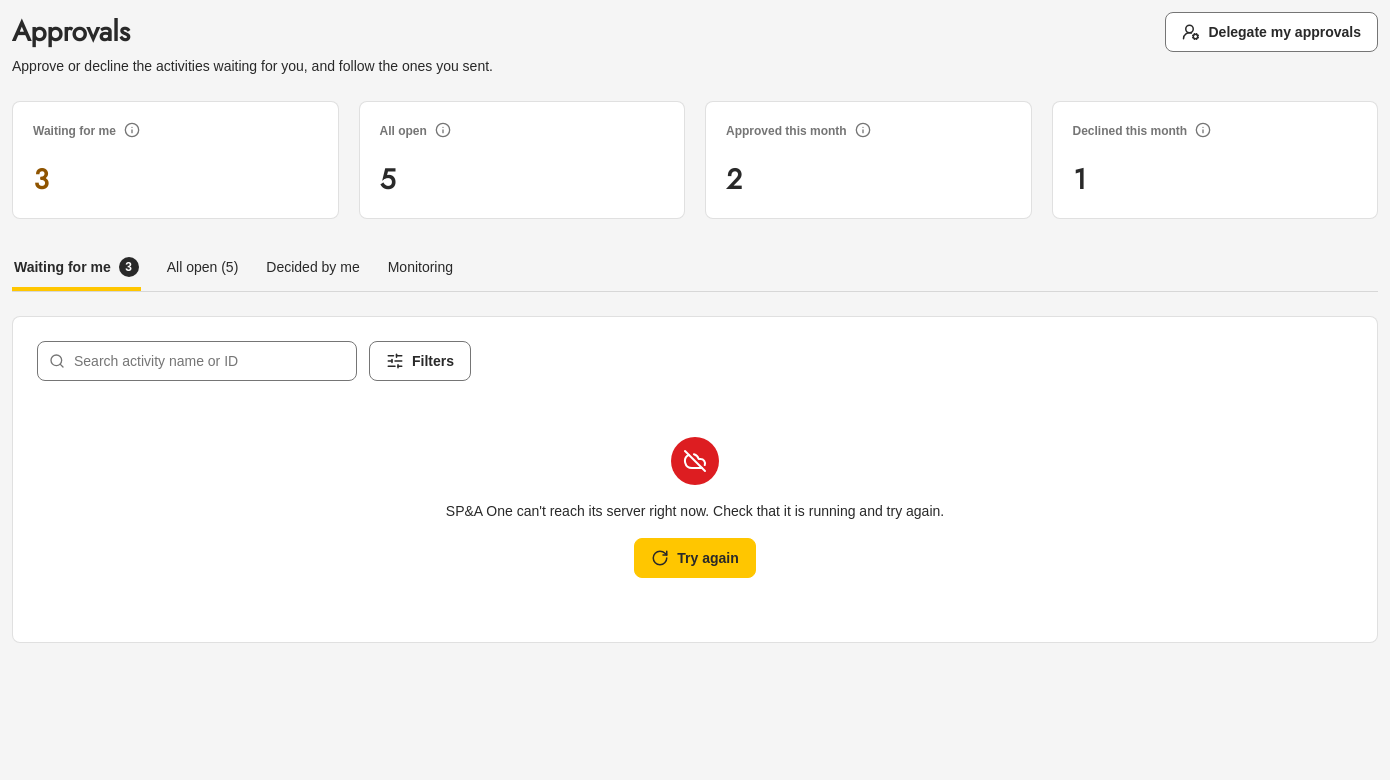
Test: ApprovalsPage (feature 008, US3) › says when the rows could not be loaded, with Try again
Click the button "Try again": (695, 558) [634,538,756,578]
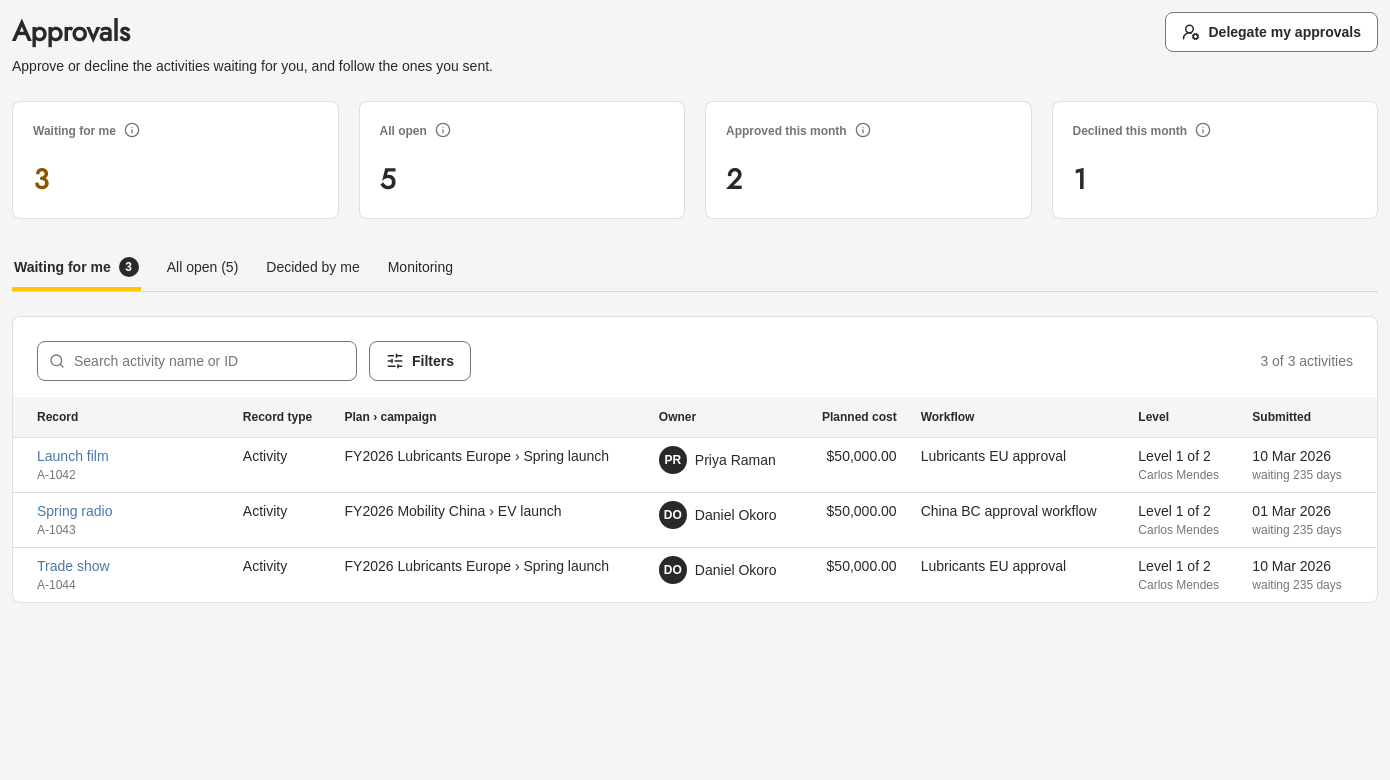
Expected: the button "Launch film" is shown, [37,446,109,466]
